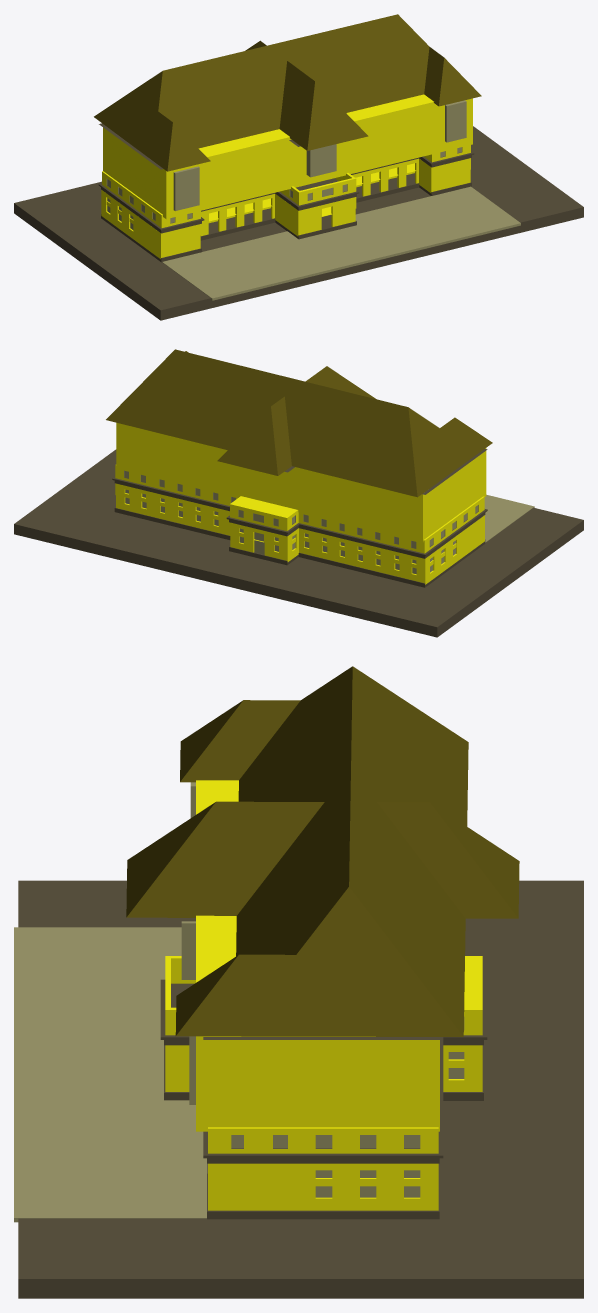
The model's file is mueee.glb.
The picture shows the model from 3 angles, top to bottom: view 1: azimuth 30°, elevation 25°; view 2: azimuth 150°, elevation 25°; view 3: azimuth 270°, elevation 25°; orthographic projection. The views are drawn at different scales.
Parts seen in each view (by area): view 1: Group9, Model, Cube.003, Cube, Group1, Group5, Group2, Group4, Cube.004, Group3, Cube.001, Cube.002; view 2: Group9, Model, Cube.003, Group1, Group5, Group2, Group4, Cube, Group3; view 3: Group9, Model, Cube, Cube.003, Group5, Group1, Group4, Group2, Group3, Cube.001.
Part boxes in pixels (bbox=[...]): Group9: bbox=[94, 14, 481, 171]; Model: bbox=[14, 123, 583, 320]; Cube.003: bbox=[103, 94, 472, 219]; Cube: bbox=[162, 186, 520, 300]; Group1: bbox=[101, 158, 470, 259]; Group5: bbox=[102, 145, 470, 244]; Group2: bbox=[101, 173, 471, 262]; Group4: bbox=[98, 151, 474, 230]; Cube.004: bbox=[173, 166, 199, 210]; Group3: bbox=[101, 155, 471, 233]; Cube.001: bbox=[306, 144, 336, 177]; Cube.002: bbox=[445, 100, 466, 142]; Group9: bbox=[106, 349, 492, 497]; Model: bbox=[14, 449, 583, 637]; Cube.003: bbox=[116, 422, 486, 542]; Group1: bbox=[116, 483, 484, 584]; Group5: bbox=[115, 465, 484, 570]; Group2: bbox=[114, 507, 485, 587]; Group4: bbox=[112, 476, 487, 556]; Cube: bbox=[484, 494, 534, 542]; Group3: bbox=[114, 480, 485, 558]; Group9: bbox=[126, 666, 519, 1036]; Model: bbox=[18, 880, 583, 1298]; Cube: bbox=[14, 927, 207, 1222]; Cube.003: bbox=[196, 780, 439, 1131]; Group5: bbox=[165, 956, 482, 1186]; Group1: bbox=[165, 1046, 482, 1210]; Group4: bbox=[160, 979, 487, 1158]; Group2: bbox=[164, 1045, 483, 1219]; Group3: bbox=[164, 1040, 483, 1163]; Cube.001: bbox=[181, 921, 195, 979].
Bounding box in the file's own units: 8984 × 3343 × 5432.
